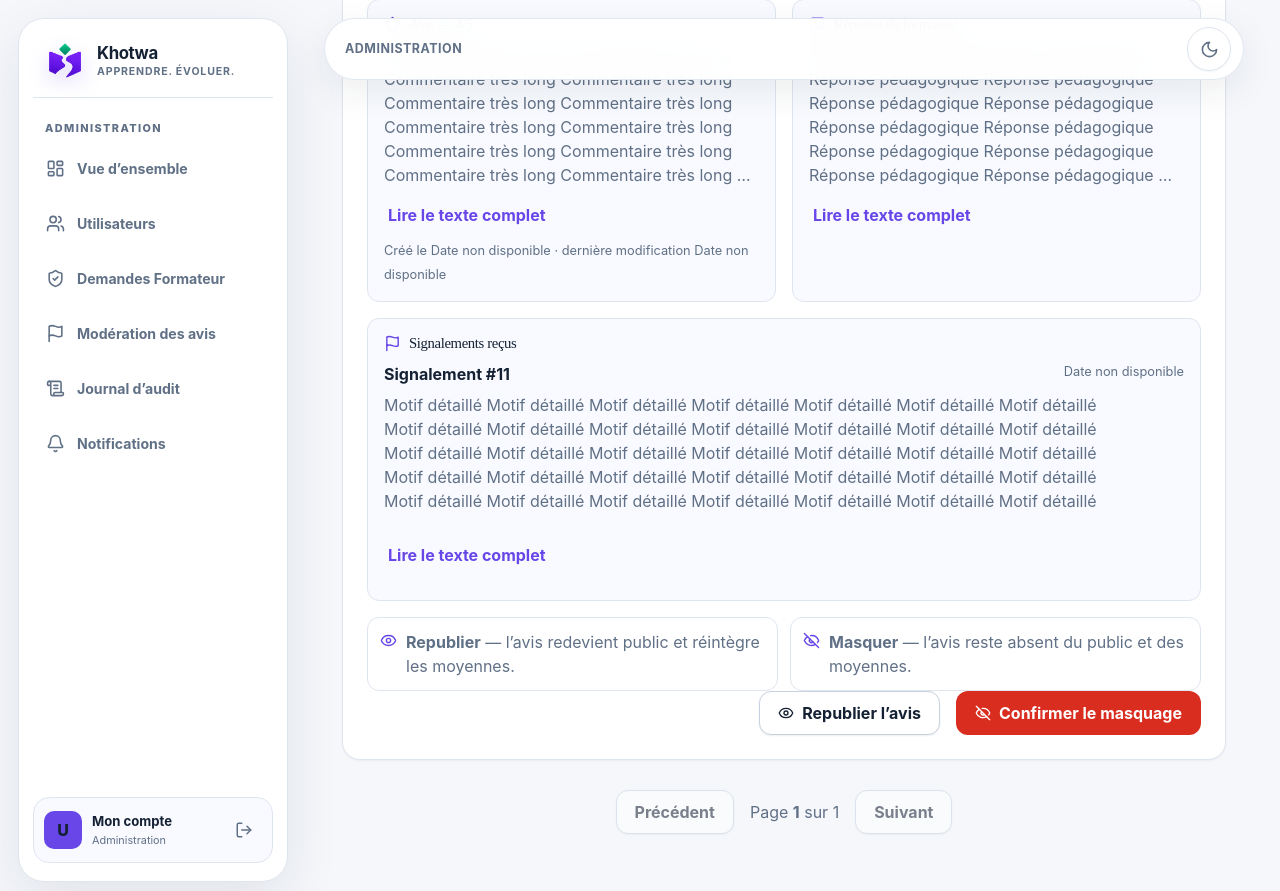
Test: workflow de modération Admin › explique le conflit 409, recharge et conserve la vérité renvoyée par le serveur
This screenshot has width=1280, height=891.
(page scrolled)
Click the button "Confirmer le masquage": click(1078, 714) [956,692,1201,736]
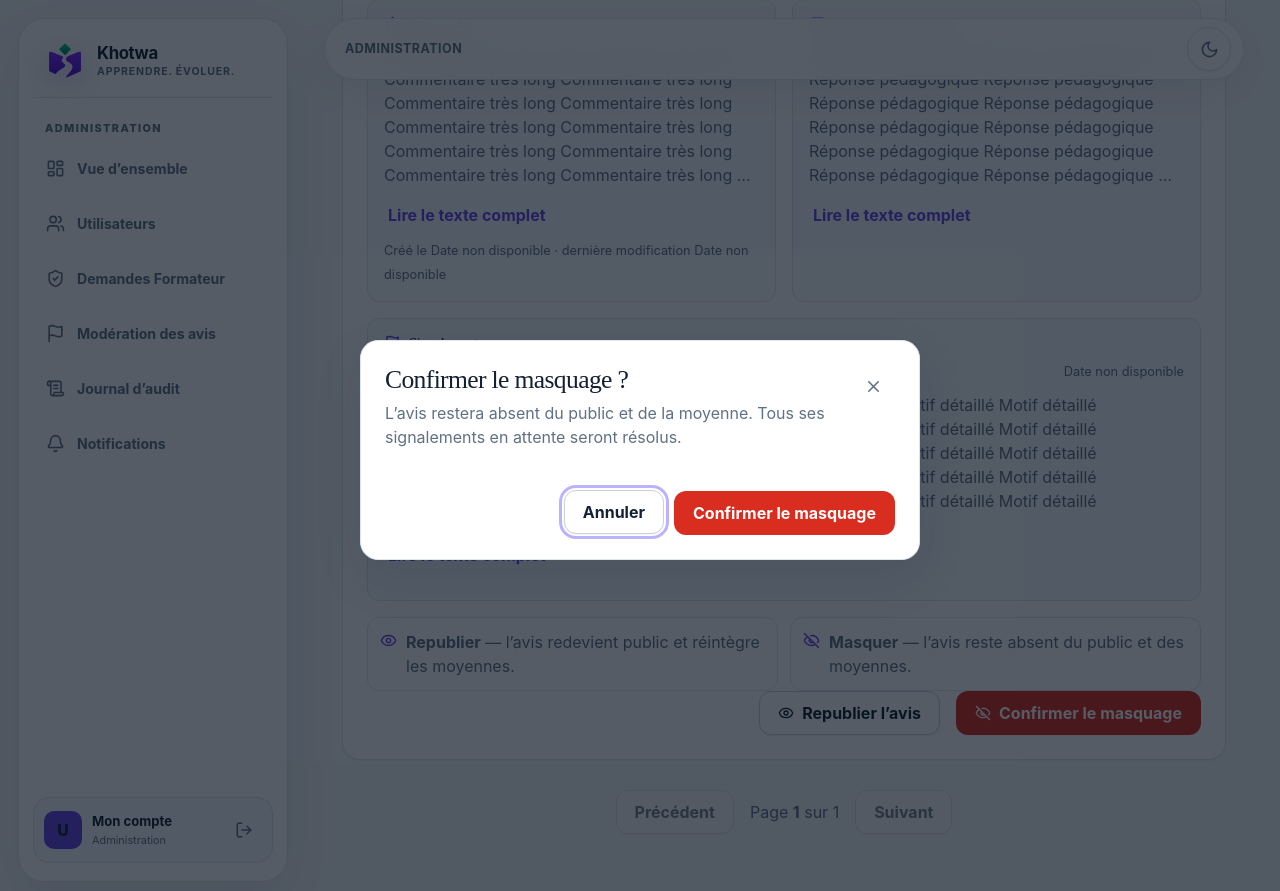
Click the button "Confirmer le masquage": click(784, 513) [674,491,895,535]
(page scrolled)
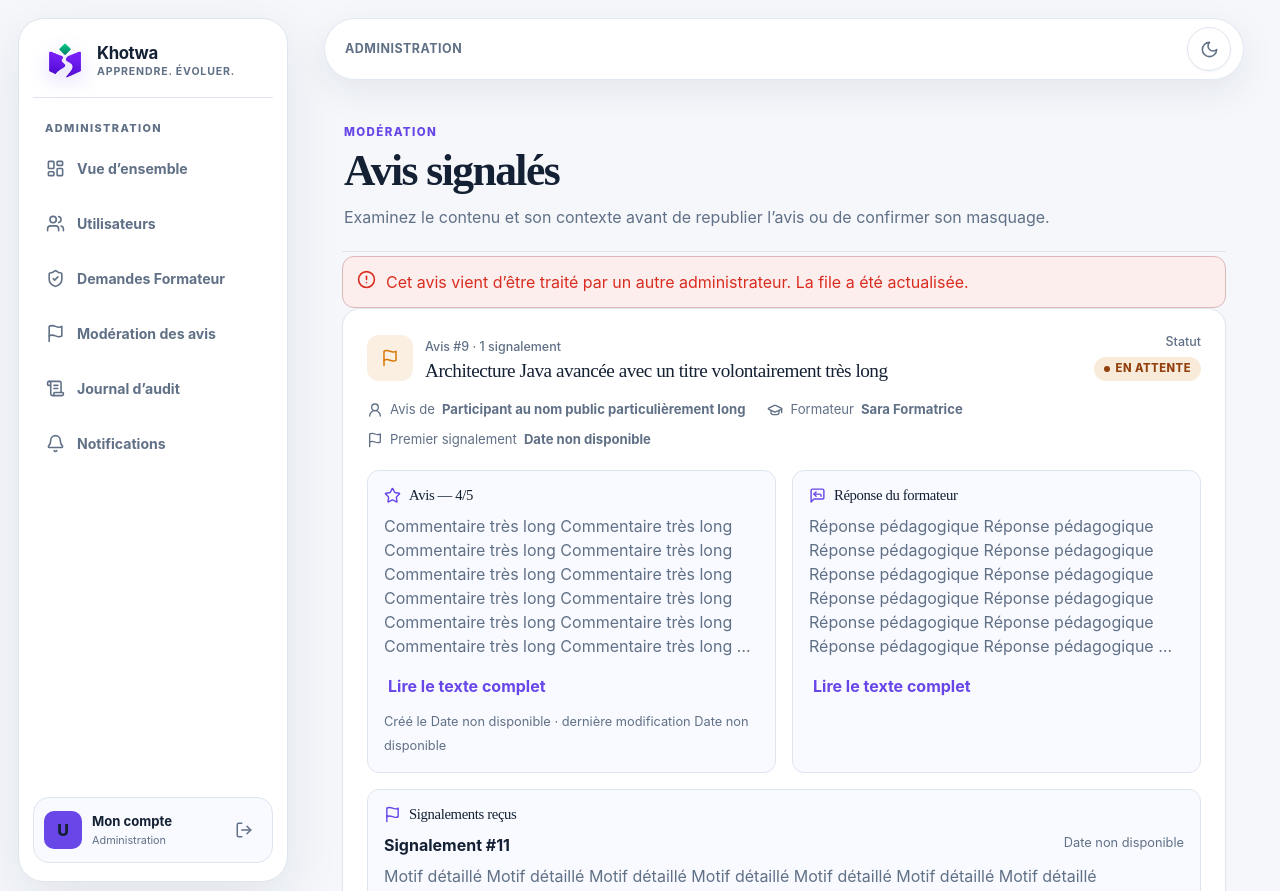
Check: the heading "Architecture Java avancée avec un titre volontairement très long" is shown, box [425,360,888,382]
Check: the text "traité par un autre administrateur" is shown, box [386,272,969,292]
